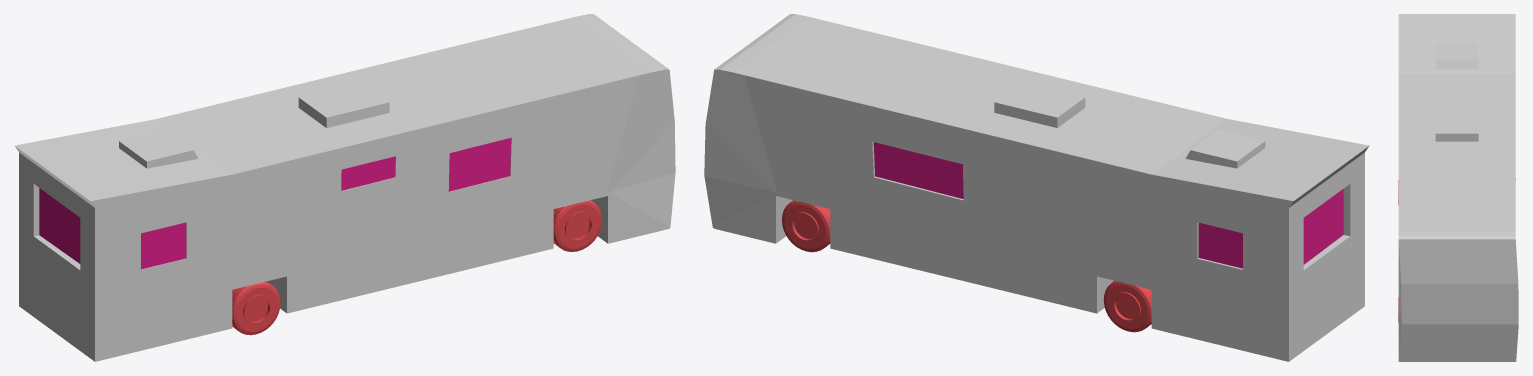
The picture shows the model from 3 angles, left to right: view 1: azimuth 30°, elevation 25°; view 2: azimuth 150°, elevation 25°; view 3: azimuth 270°, elevation 25°; orthographic projection. The views are drawn at different scales.
Parts seen in each view (by area): view 1: Cube.001, Cube.002, Cube.005, Cylinder, Cylinder.001, Cube.009, Cube.003, Cube.006, Cube.004; view 2: Cube.001, Cube.007, Cube.002, Cylinder.003, Cylinder.004, Cube.003, Cube.009, Cube.008; view 3: Cube.001, Cube.002, Cube.003.
Part boxes in pixels (box(x1,y1,x2,y2)): Cube.001: box(15, 14, 675, 361); Cube.002: box(298, 82, 389, 128); Cube.005: box(448, 138, 511, 191); Cylinder: box(232, 281, 280, 335); Cylinder.001: box(553, 200, 602, 251); Cube.009: box(39, 188, 80, 263); Cube.003: box(119, 129, 198, 168); Cube.006: box(141, 222, 186, 269); Cube.004: box(341, 156, 395, 190); Cube.001: box(704, 14, 1369, 361); Cube.007: box(873, 142, 963, 198); Cube.002: box(994, 82, 1085, 127); Cylinder.003: box(782, 200, 830, 252); Cylinder.004: box(1103, 280, 1151, 332); Cube.003: box(1185, 129, 1265, 168); Cube.009: box(1303, 189, 1343, 264); Cube.008: box(1198, 222, 1242, 268); Cube.001: box(1398, 14, 1518, 361); Cube.002: box(1435, 110, 1478, 141); Cube.003: box(1435, 42, 1478, 69).
Bounding box in the file's own units: 3774 × 1095 × 871.
